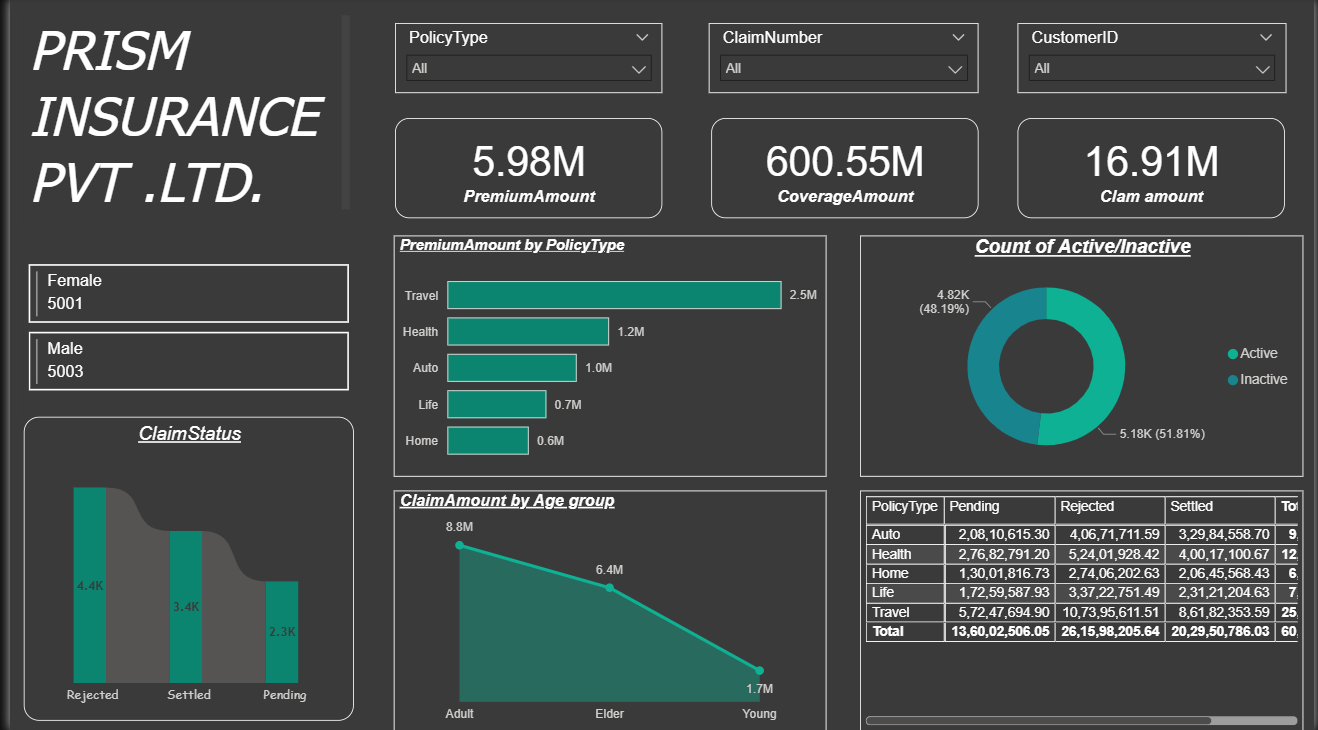

What the dashboard file says about the page in this screenshot:
{"tool":"powerbi","page":{"name":"Page 1","canvas":[1280,720],"ordinal":0},"visuals":[{"type":"slicer","fields":{"Values":["InsuranceData.PolicyType"]},"box":[377.9,24.5,262.6,68.7],"z":0},{"type":"slicer","fields":{"Values":["InsuranceData.ClaimNumber"]},"box":[685.9,24.5,265,68.7],"z":1000},{"type":"slicer","fields":{"Values":["InsuranceData.CustomerID"]},"box":[989,24.5,263.8,68.7],"z":2000},{"type":"textbox","box":[13.5,12.3,325.2,209.8],"z":3000},{"type":"card","title":"Claim amount","fields":{"Values":["Sum(InsuranceData.ClaimAmount)"]},"box":[989,117.8,262.6,98.2],"z":4000},{"type":"card","title":"Claim amount","fields":{"Values":["Sum(InsuranceData.PremiumAmount)"]},"box":[377.9,117.8,262.6,98.2],"z":5000},{"type":"card","title":"Claim amount","fields":{"Values":["Sum(InsuranceData.CoverageAmount)"]},"box":[688.3,117.8,262.6,98.2],"z":6000},{"type":"multiRowCard","fields":{"Values":["InsuranceData.Gender","CountNonNull(InsuranceData.Gender)"]},"box":[13.5,256.4,323.9,154.6],"z":7000},{"type":"ribbonChart","title":" ClaimStatus","fields":{"Category":["InsuranceData.ClaimStatus"],"Y":["CountNonNull(InsuranceData.ClaimStatus)"]},"box":[13.5,411,323.9,298.2],"z":8000},{"type":"barChart","title":"PremiumAmount by PolicyType","fields":{"Y":["Sum(InsuranceData.PremiumAmount)"],"Category":["InsuranceData.PolicyType"]},"box":[376.7,233.1,424.5,236.8],"z":9000},{"type":"lineChart","title":"ClaimAmount by Age group","fields":{"Category":["InsuranceData.Age group"],"Y":["Sum(InsuranceData.ClaimAmount)"]},"box":[376.7,483.4,424.5,236.8],"z":10000},{"type":"donutChart","title":"Count of Active/Inactive ","fields":{"Category":["InsuranceData.Active/Inactive"],"Y":["CountNonNull(InsuranceData.Active/Inactive)"]},"box":[834.4,233.1,435.6,236.8],"z":11000},{"type":"pivotTable","fields":{"Values":["Sum(InsuranceData.CoverageAmount)"],"Columns":["InsuranceData.ClaimStatus"],"Rows":["InsuranceData.PolicyType"]},"box":[834.4,483.4,435.6,236.8],"z":12000}]}

Visuals, with their boxes in screenshot pixels (x1, y1, x2, y2), scaled from the page's 1280x720 canvas onto the 1318x730 screenshot:
slicer - InsuranceData.PolicyType: BBox(389, 25, 660, 94)
slicer - InsuranceData.ClaimNumber: BBox(706, 25, 979, 94)
slicer - InsuranceData.CustomerID: BBox(1018, 25, 1290, 94)
textbox: BBox(14, 12, 349, 225)
"Claim amount" card: BBox(1018, 119, 1289, 219)
"Claim amount" card: BBox(389, 119, 660, 219)
"Claim amount" card: BBox(709, 119, 979, 219)
multiRowCard - InsuranceData.Gender x CountNonNull(InsuranceData.Gender): BBox(14, 260, 347, 417)
" ClaimStatus" ribbonChart: BBox(14, 417, 347, 719)
"PremiumAmount by PolicyType" barChart: BBox(388, 236, 825, 476)
"ClaimAmount by Age group" lineChart: BBox(388, 490, 825, 729)
"Count of Active/Inactive " donutChart: BBox(859, 236, 1308, 476)
pivotTable - Sum(InsuranceData.CoverageAmount) x InsuranceData.ClaimStatus: BBox(859, 490, 1308, 729)
